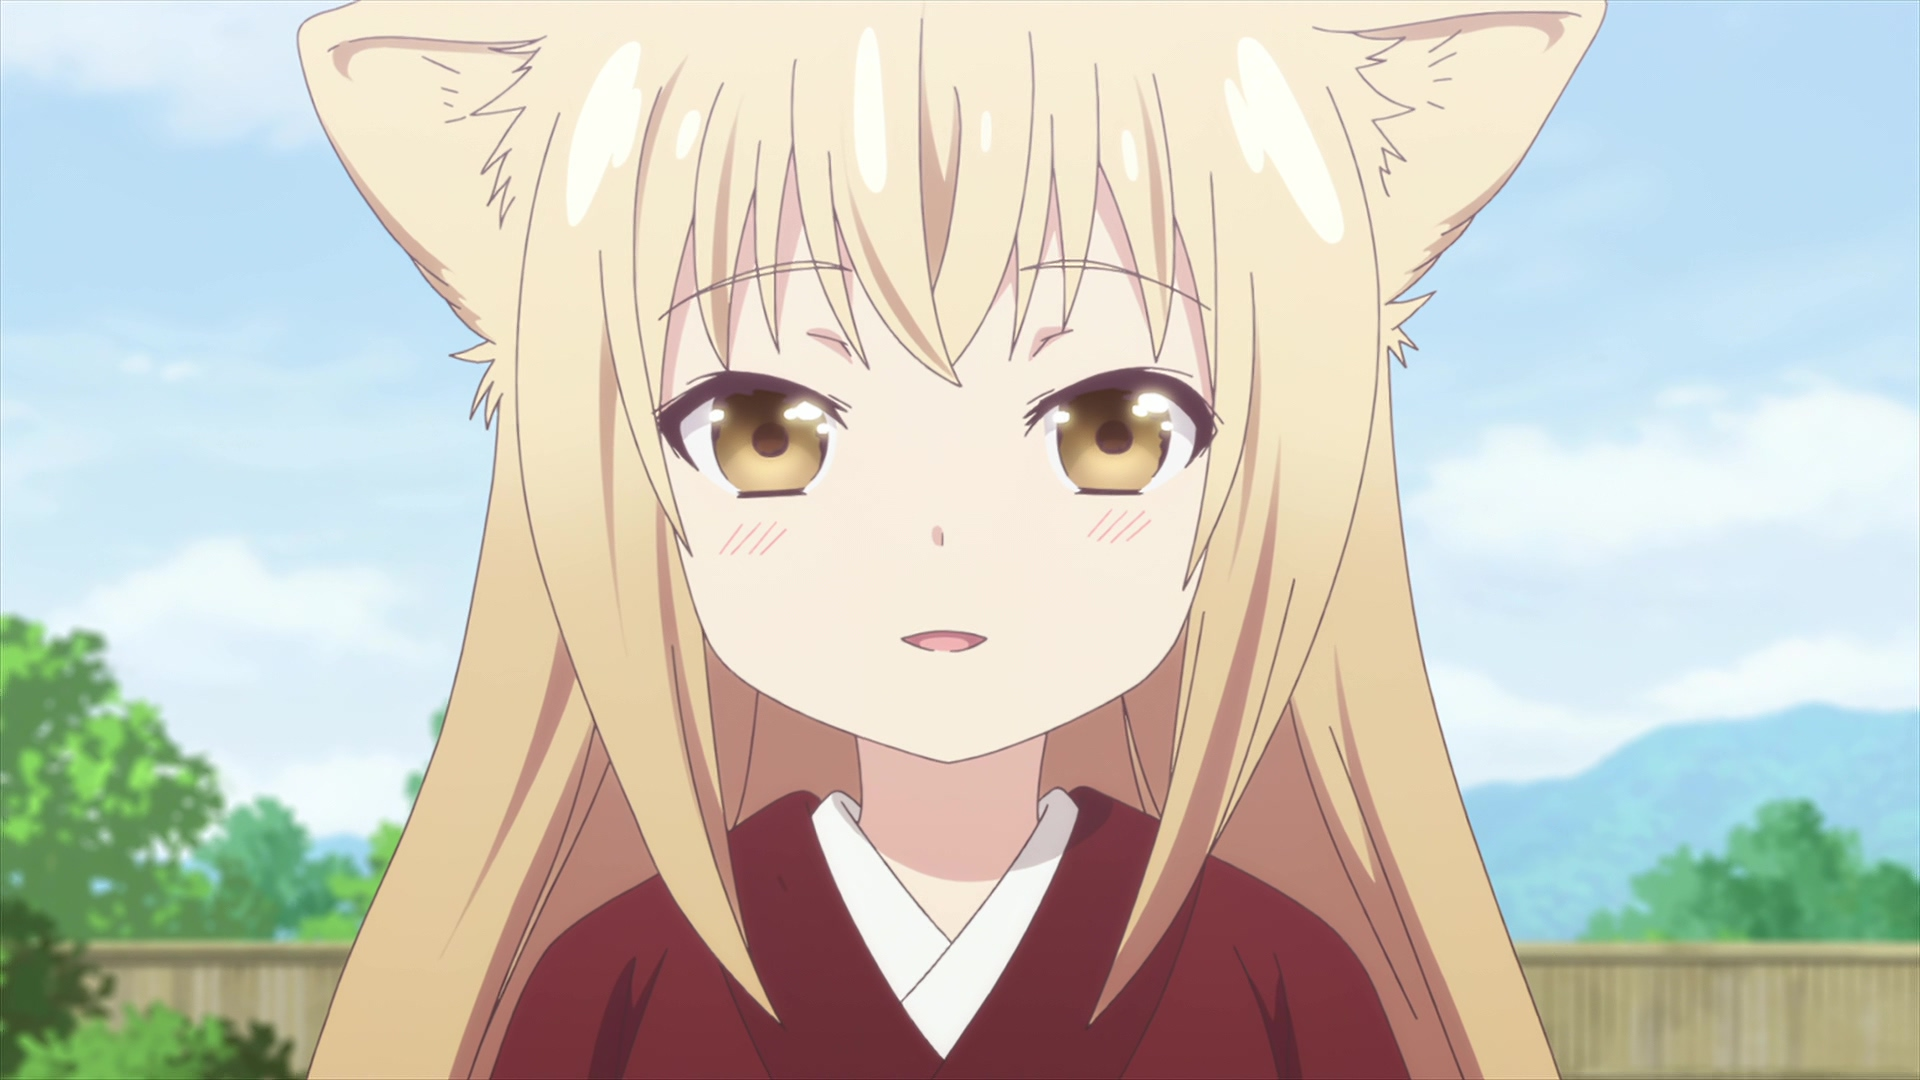柚: (298, 1, 1606, 1080)
